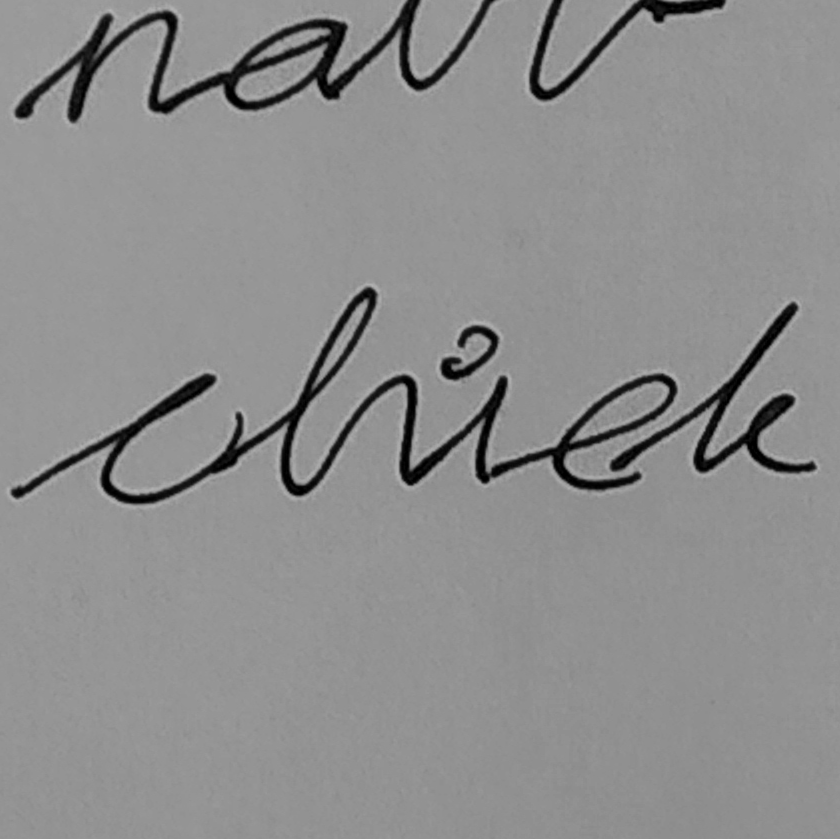c: (95, 366, 241, 510), (548, 369, 681, 499)
h: (275, 281, 427, 499)
i: (434, 322, 523, 488)
k: (687, 295, 823, 477)
